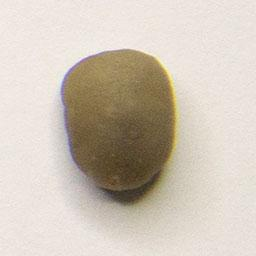peaberry: (58, 46, 181, 196)
